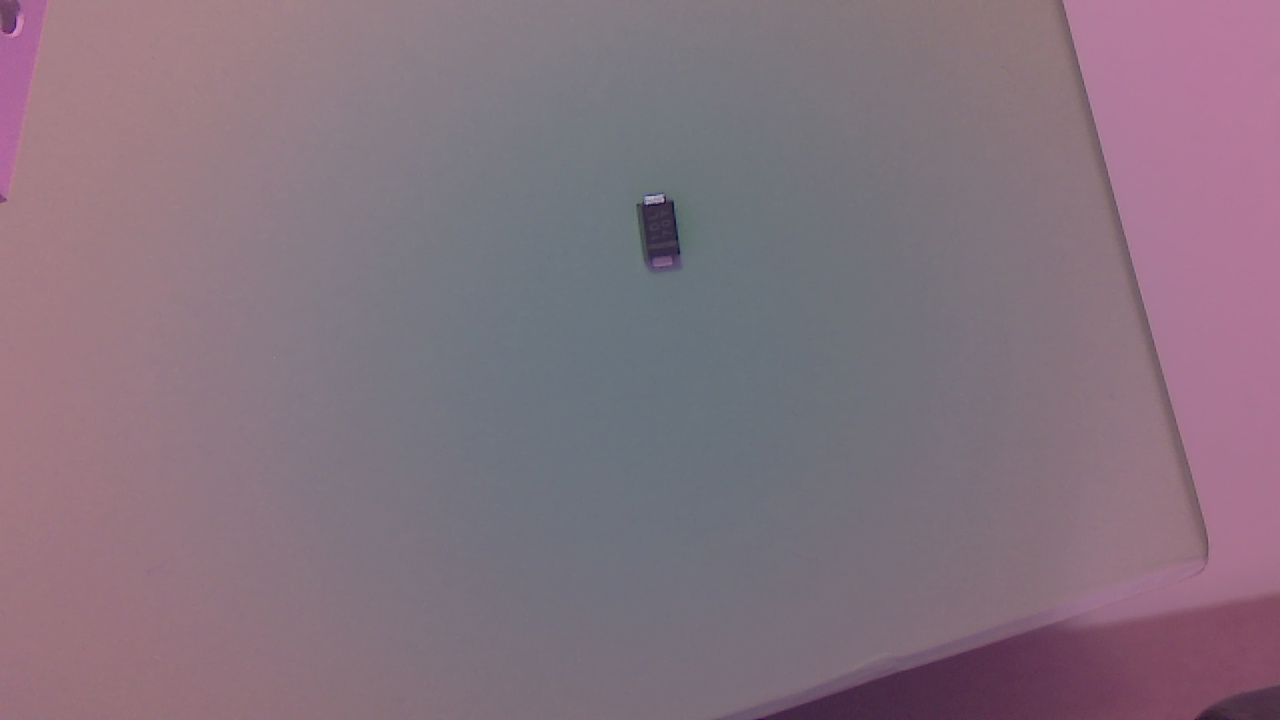Diode: (639, 192, 698, 280)
